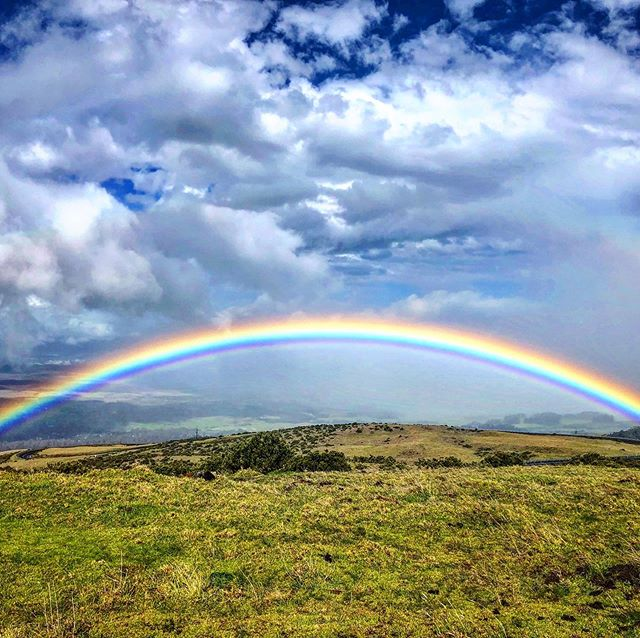grass: (1, 440, 640, 638)
rainbow: (7, 323, 640, 444)
sky: (1, 1, 640, 325)
